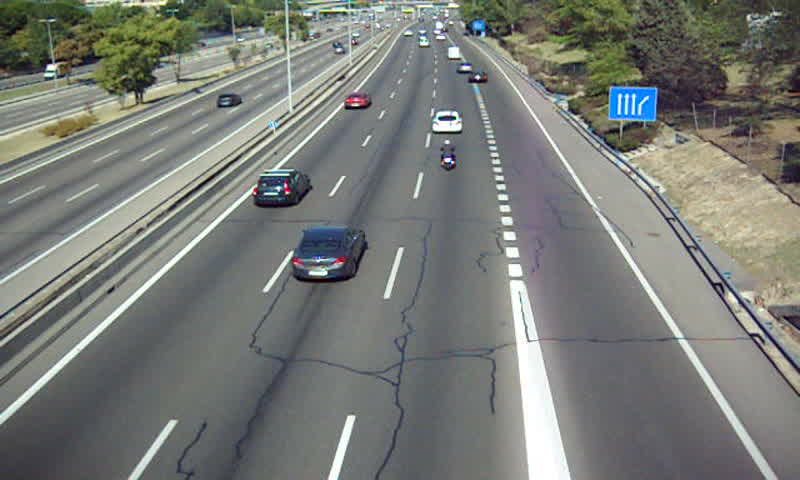car: (290, 226, 366, 283), (251, 169, 311, 208), (431, 110, 464, 136), (345, 93, 370, 108), (468, 72, 488, 84), (458, 61, 474, 74)
motorcycle: (440, 139, 459, 171)
